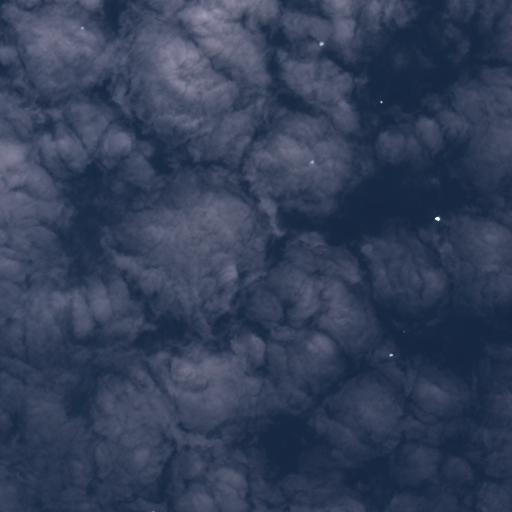Iceberg: (435, 216, 440, 220), (319, 41, 323, 45), (309, 160, 313, 163), (389, 353, 393, 356), (379, 100, 382, 103), (81, 26, 83, 28), (403, 331, 404, 332)
